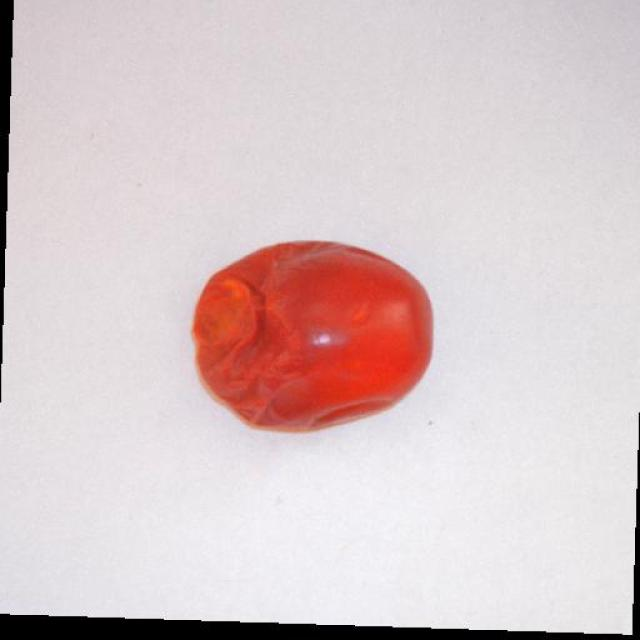Stale_tomato: (175, 243, 466, 438)
